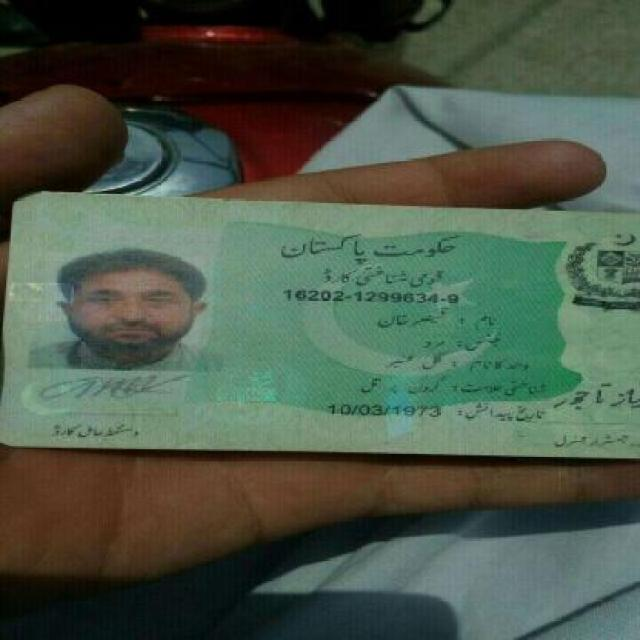Front: (3, 183, 639, 463)
